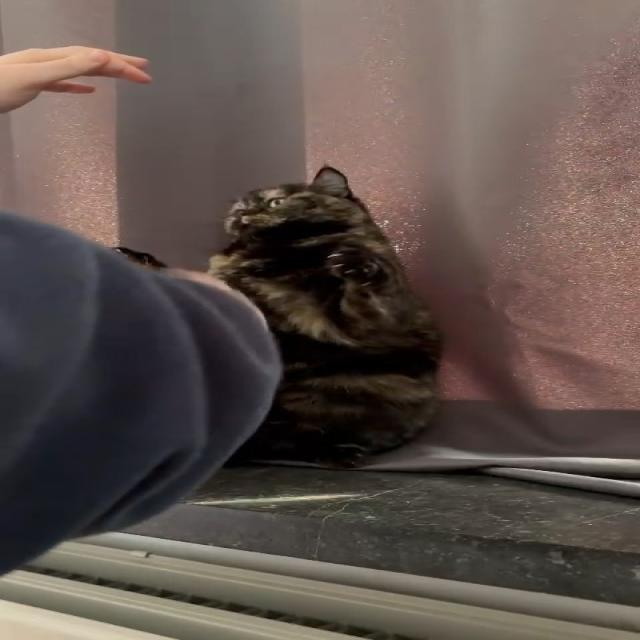authorized: (111, 164, 444, 469)
